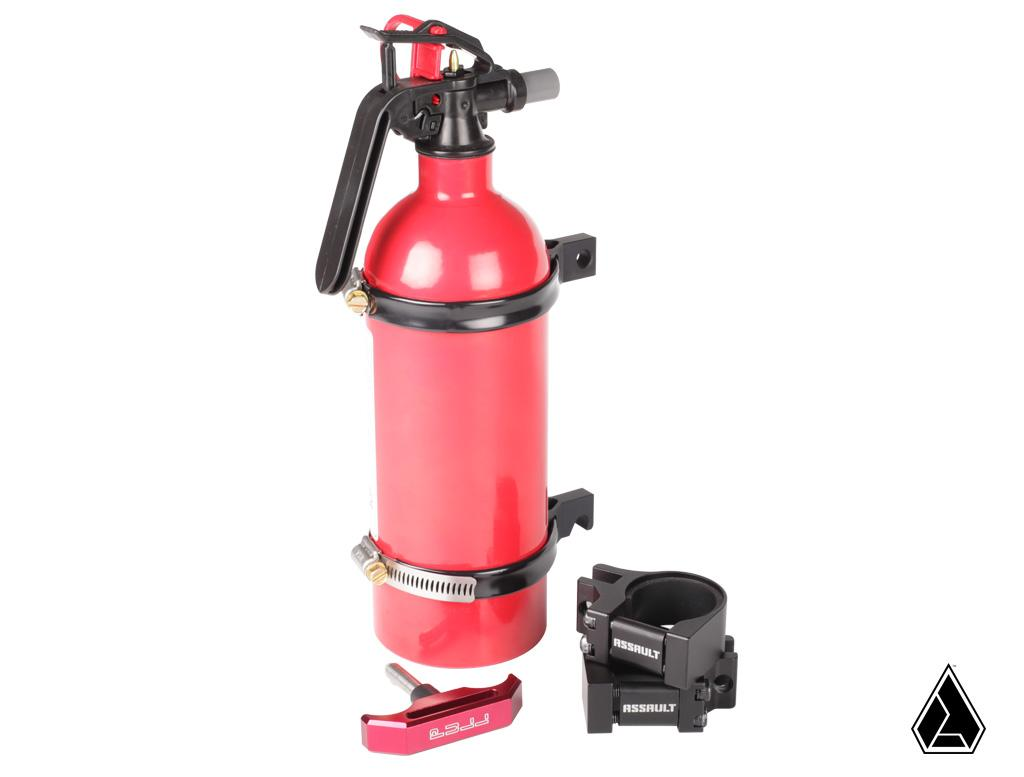Fire Extinguisher: (300, 2, 608, 672)
